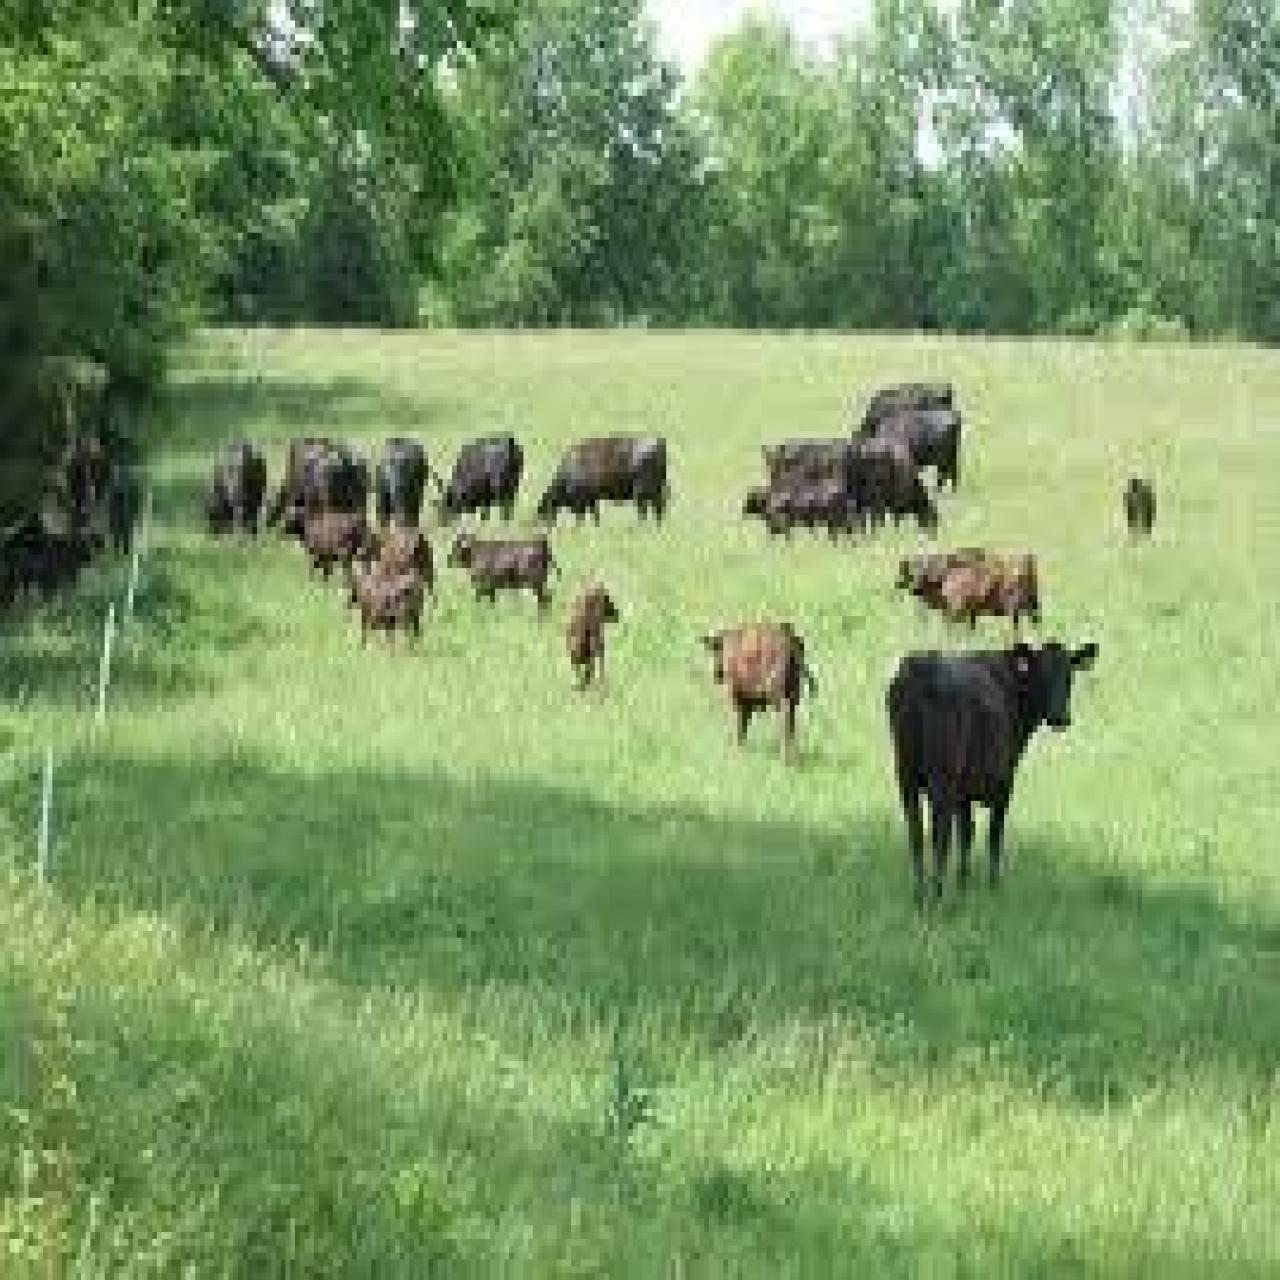cow: (880, 629, 1099, 911), (700, 617, 823, 767), (531, 428, 668, 537), (428, 428, 527, 530), (445, 527, 564, 610), (852, 449, 942, 545), (740, 476, 855, 551), (938, 551, 1042, 633), (890, 547, 990, 629), (559, 572, 626, 694), (873, 408, 964, 497), (361, 438, 443, 527), (199, 435, 266, 544), (286, 503, 367, 585), (345, 574, 440, 644), (847, 380, 952, 441), (359, 524, 440, 592), (279, 428, 335, 524), (756, 435, 857, 483), (309, 451, 367, 513), (1118, 472, 1156, 547)
